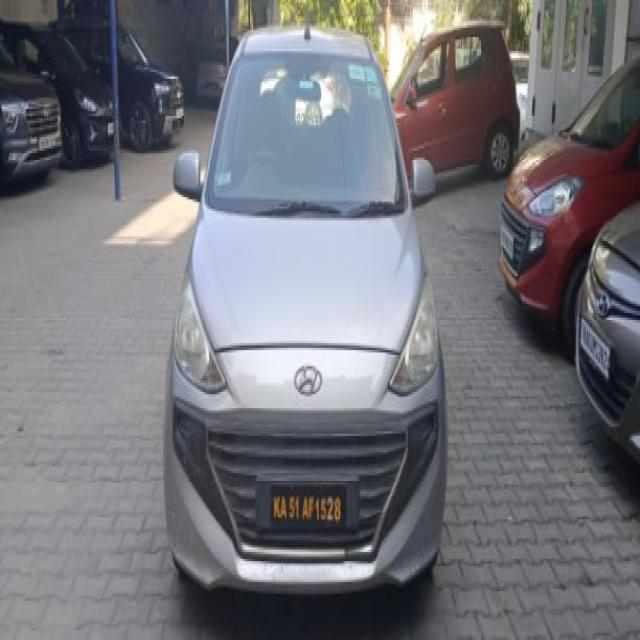license_plate: (267, 478, 347, 528), (578, 316, 613, 382)
